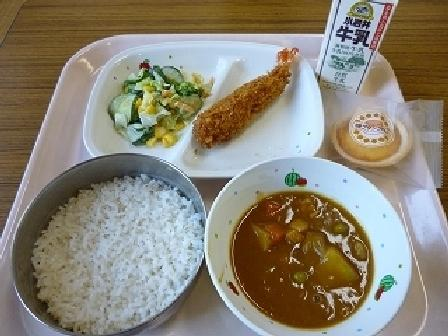Cup desserts: (313, 97, 432, 174)
Curry: (212, 168, 389, 325)
Milk: (314, 0, 403, 93)
Rice: (15, 166, 195, 326)
Salad: (110, 57, 195, 138)
seafood: (195, 48, 300, 150)
